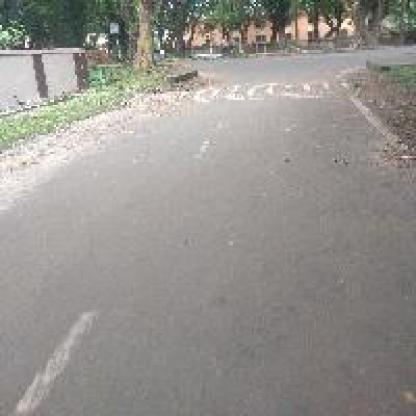Speed Bump: (154, 78, 345, 111)
